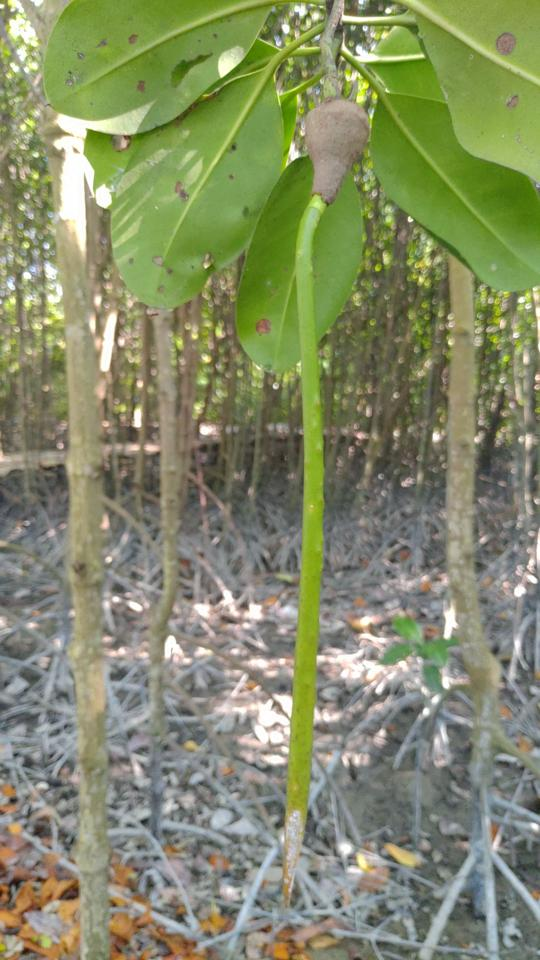setengah matang: (263, 69, 389, 916)
